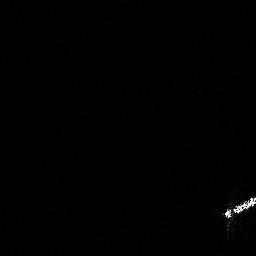ship: (224, 196, 256, 217)
